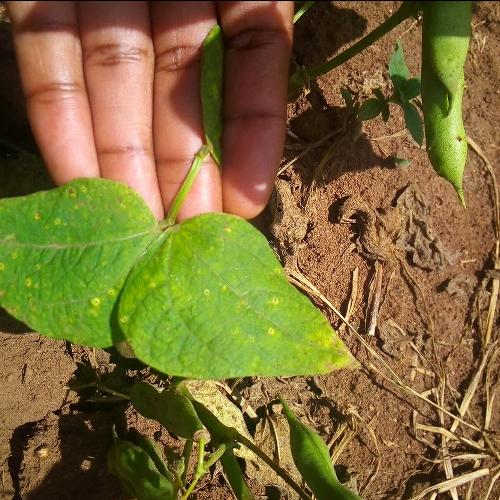hawar: (220, 276, 302, 366), (66, 263, 134, 341)
